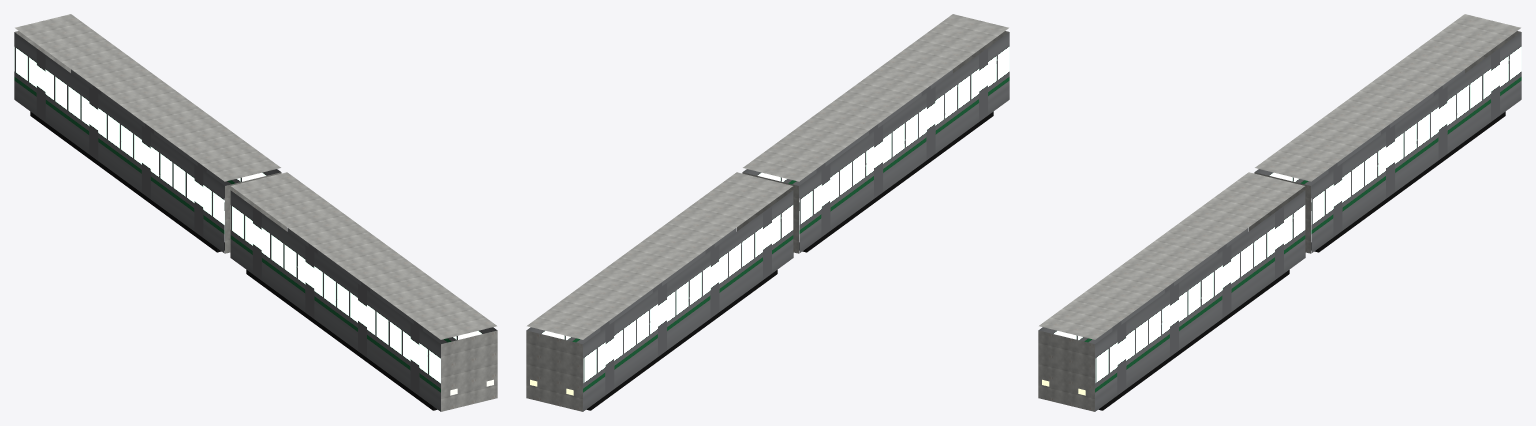
File: night_train.glb
3 renders of one model, left to right at view 1: azimuth 30°, elevation 25°; view 2: azimuth 150°, elevation 25°; view 3: azimuth 330°, elevation 25°, orthographic.
Visible parts, largest first — view 1: night_train; view 2: night_train; view 3: night_train.
Part boxes in pixels (box(x1,y1,x2,y2)): night_train: box(14, 14, 497, 411); night_train: box(526, 14, 1009, 411); night_train: box(1038, 14, 1521, 411).
Size of the model in its own units: 2.8 by 3.8 by 37.02.
4 materials, 4 textured.
